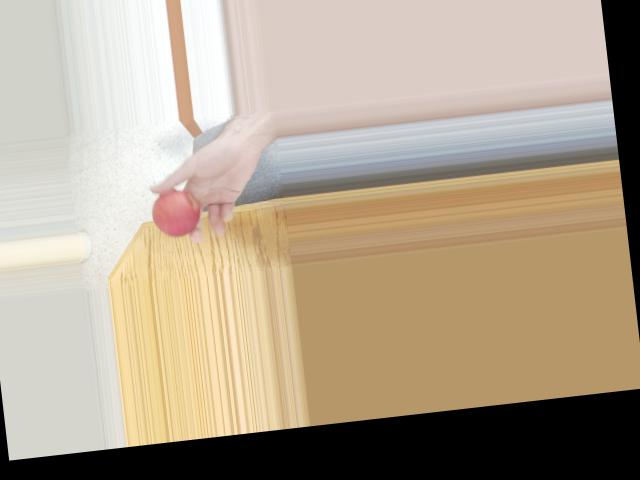apple: (145, 180, 202, 239)
